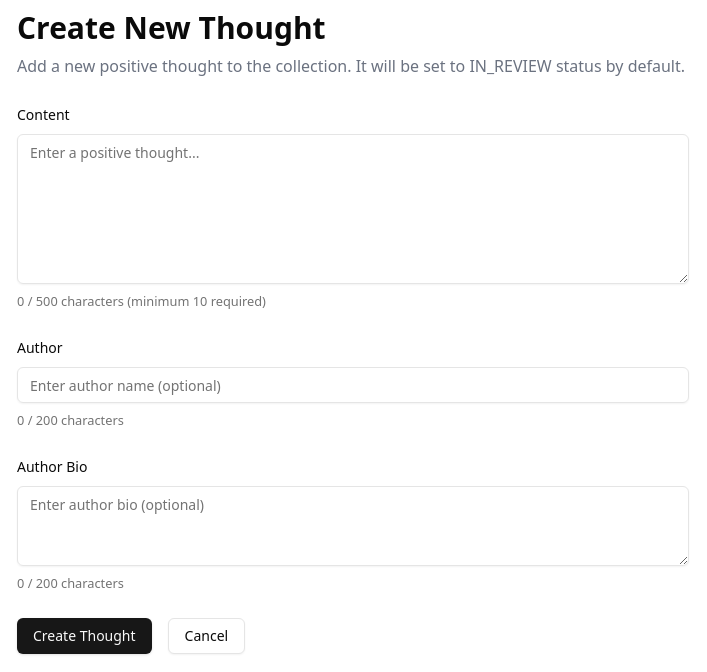
it: Thoughts Author Fields › character counter shows correct count for author field
The width and height of the screenshot is (707, 672).
Type "Hunter S. Thompson" into the field with placeholder "Enter author name (optional)" at coordinates (353, 385), box 17,367 -> 689,403
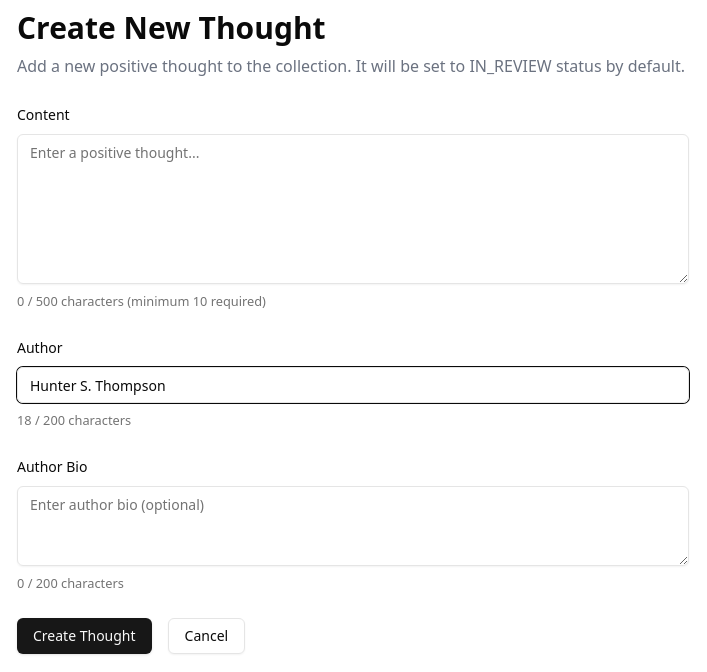
expect the text "18 / 200 characters" is shown: met, box 17,411 -> 131,429
